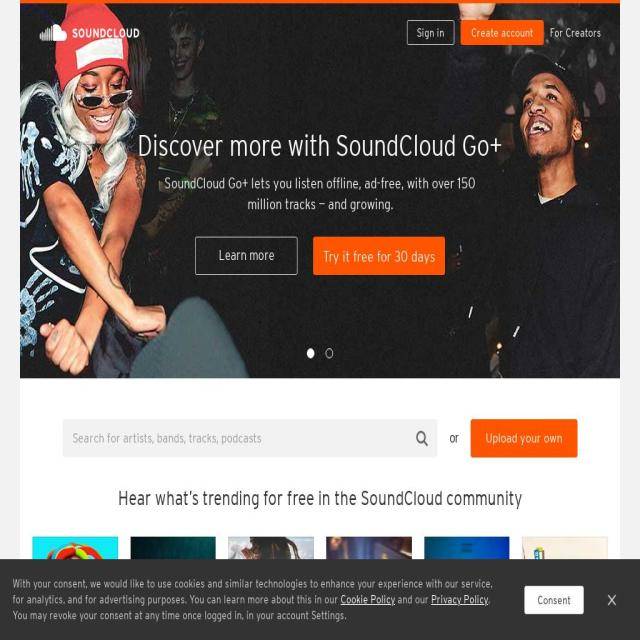button: (313, 237, 445, 275), (471, 419, 578, 458), (195, 237, 297, 275), (460, 20, 544, 45), (524, 585, 584, 614), (550, 21, 601, 46), (406, 419, 438, 458), (406, 20, 454, 45)
field: (62, 419, 437, 458)
heading: (32, 14, 147, 53)
image: (32, 536, 118, 640), (130, 536, 216, 640), (326, 536, 412, 640), (424, 536, 510, 640), (521, 536, 607, 640), (228, 536, 313, 640), (606, 591, 618, 608)
link: (431, 592, 488, 606), (341, 592, 395, 606)
text: (32, 468, 608, 512), (138, 124, 502, 166), (12, 576, 492, 606), (12, 592, 490, 622), (154, 173, 486, 214), (395, 592, 431, 606), (446, 425, 462, 450)
